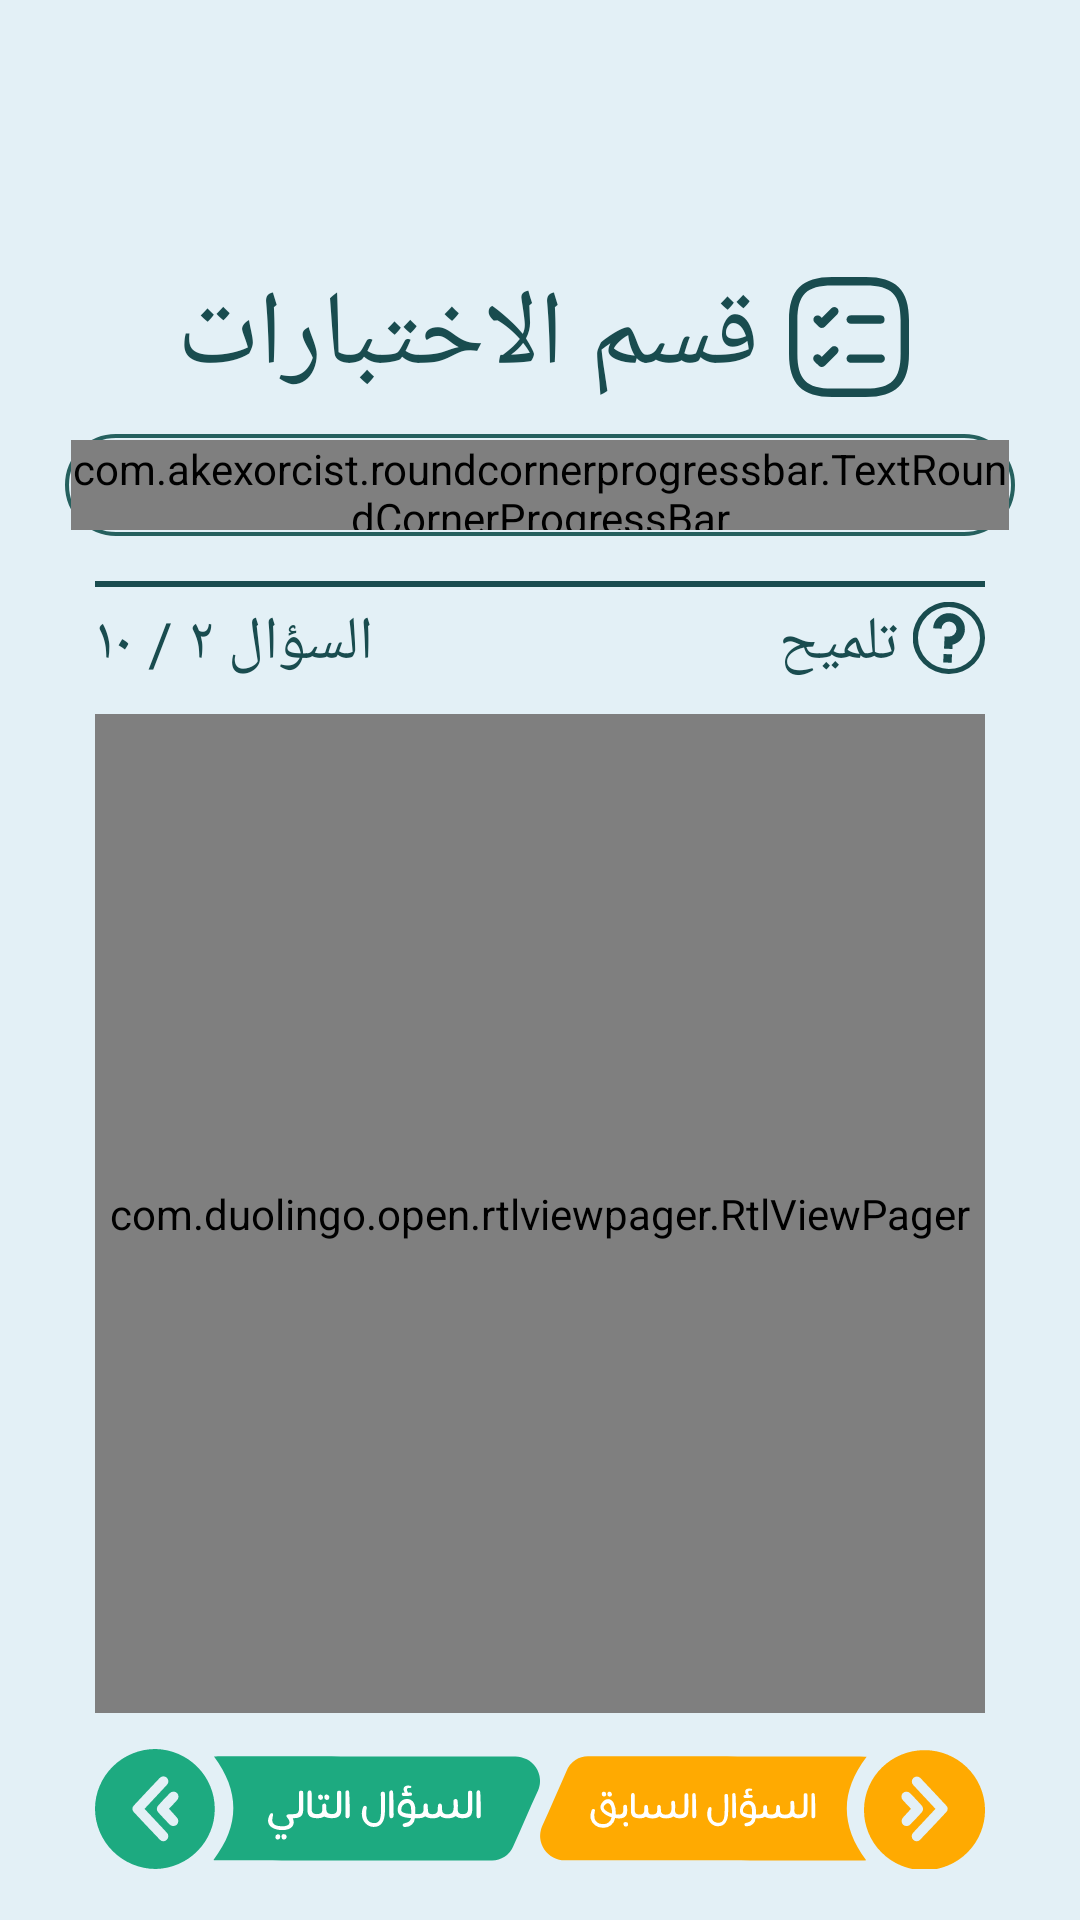

Named icons in this screenshot (1080w x 1920h) and their centers, (x,y):
question mark: (949,638)
tests: (849,337)
